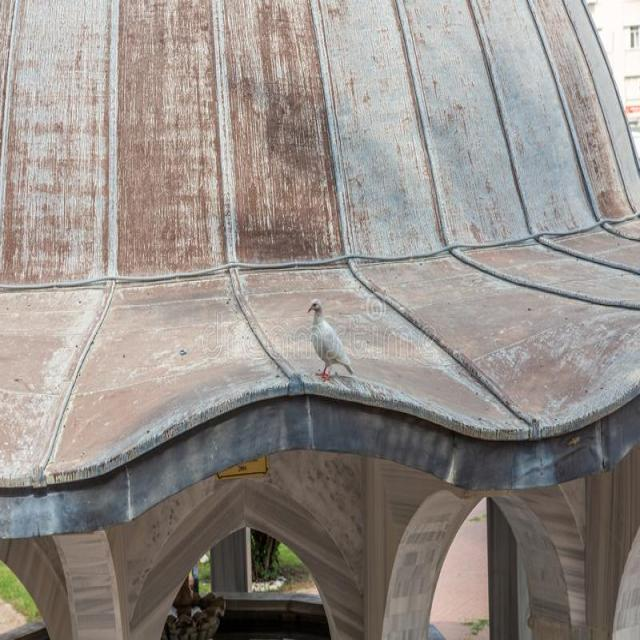bird: (306, 298, 356, 380)
